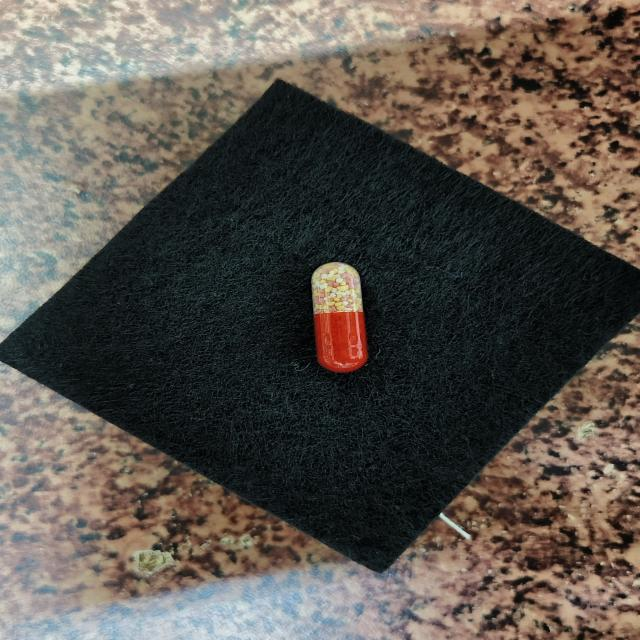Intact Capsule: (311, 262, 368, 373)
